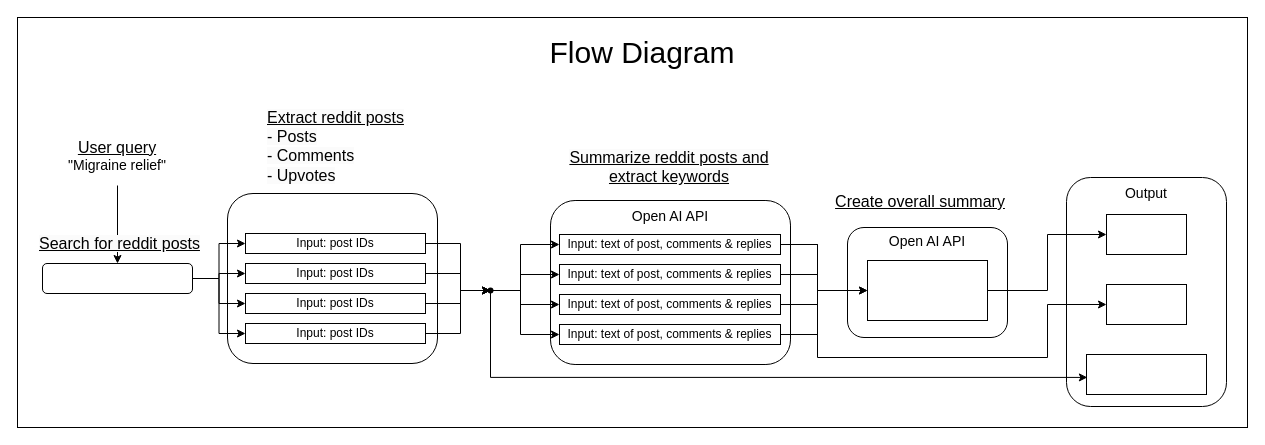
This 1265x445 diagram has some shape labels left out. Each missing label, with the box of its shape:
Input: post summaries: (866, 260, 988, 320)
Keywords: (1106, 284, 1186, 324)
Overall post summary: (1106, 214, 1186, 254)
PRAW API post retrieval: (226, 192, 438, 364)
PRAW API search: (42, 262, 192, 294)
Tabular post & comment data: (1086, 354, 1206, 394)
